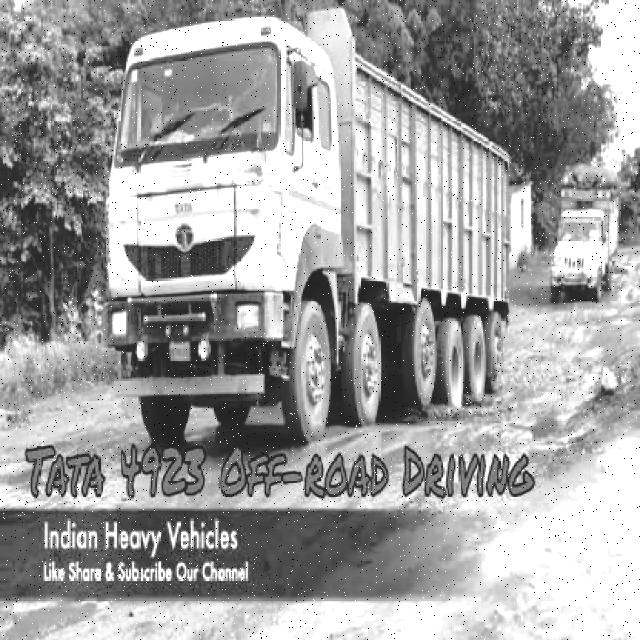HCV: (85, 49, 513, 400)
